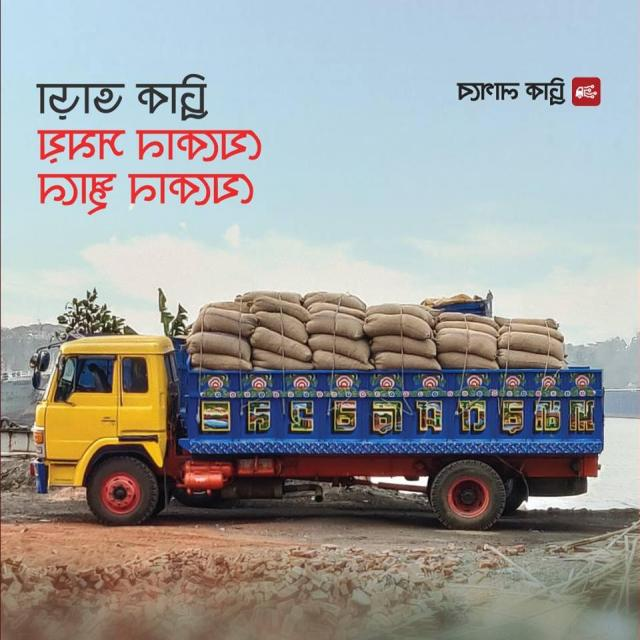truck: (9, 274, 634, 544)
